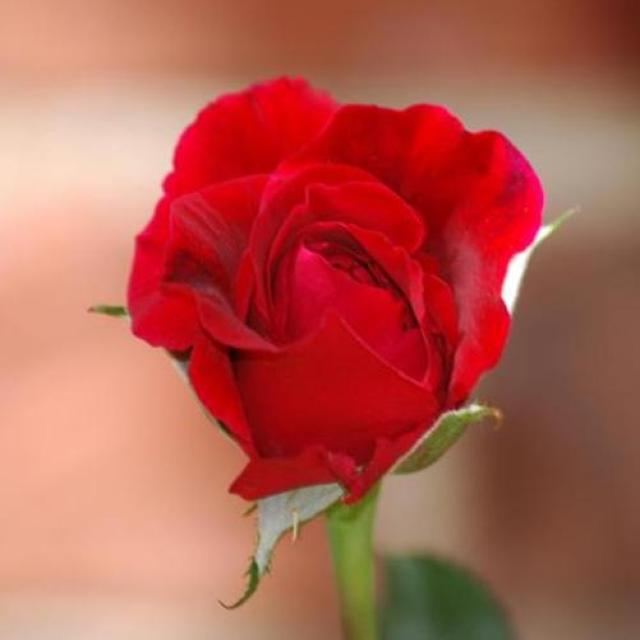rose: (113, 44, 582, 572)
